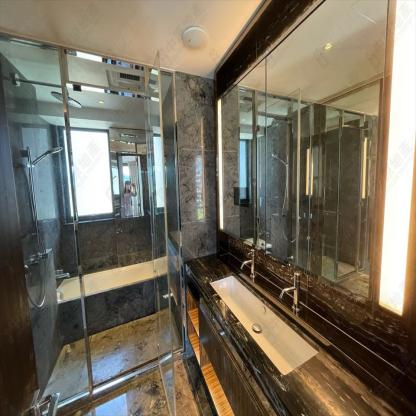Bathtub: (56, 257, 157, 343)
Faucet: (277, 268, 303, 313), (242, 246, 258, 279)
Toilet Sink: (210, 276, 318, 378)
Water Cubicle: (1, 33, 183, 415)
